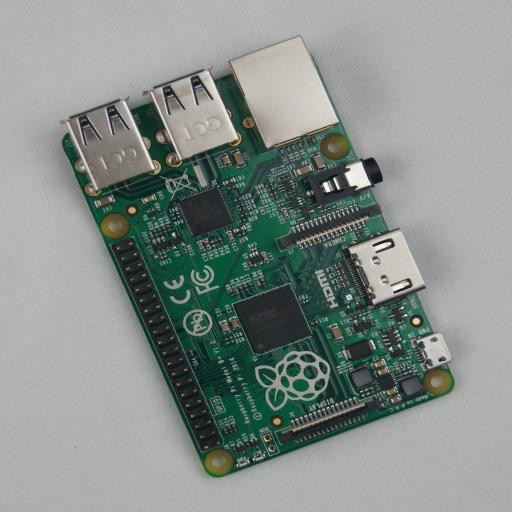Raspberry Pi 1 B-: (62, 54, 454, 477)
